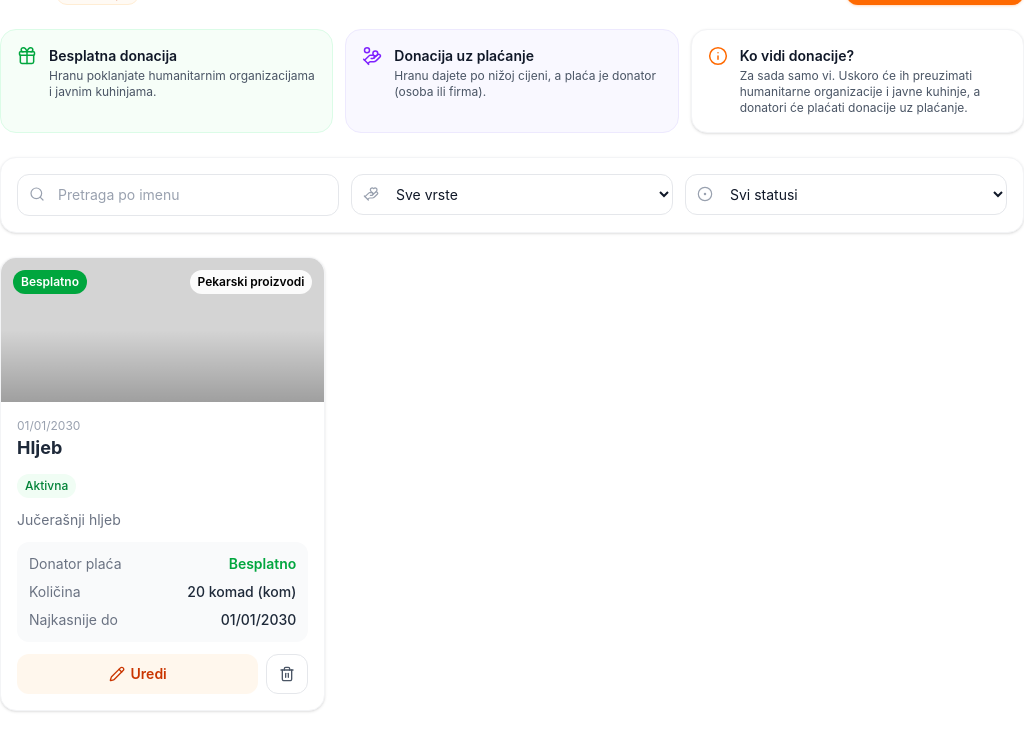
Test: DonateFoodPage › deletes a donation after confirmation
(page scrolled)
Click the button named "Obriši" at {"x": 287, "y": 674}, box [266, 654, 308, 694]
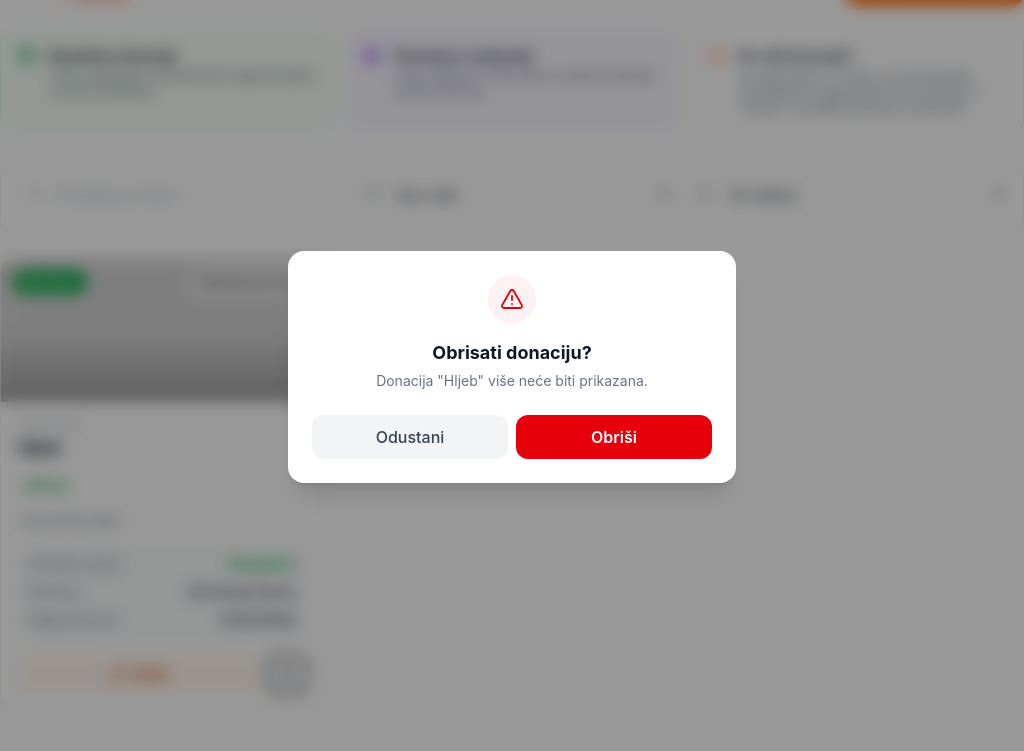
Click the button "Obriši" at {"x": 614, "y": 437}, box [516, 415, 712, 459]
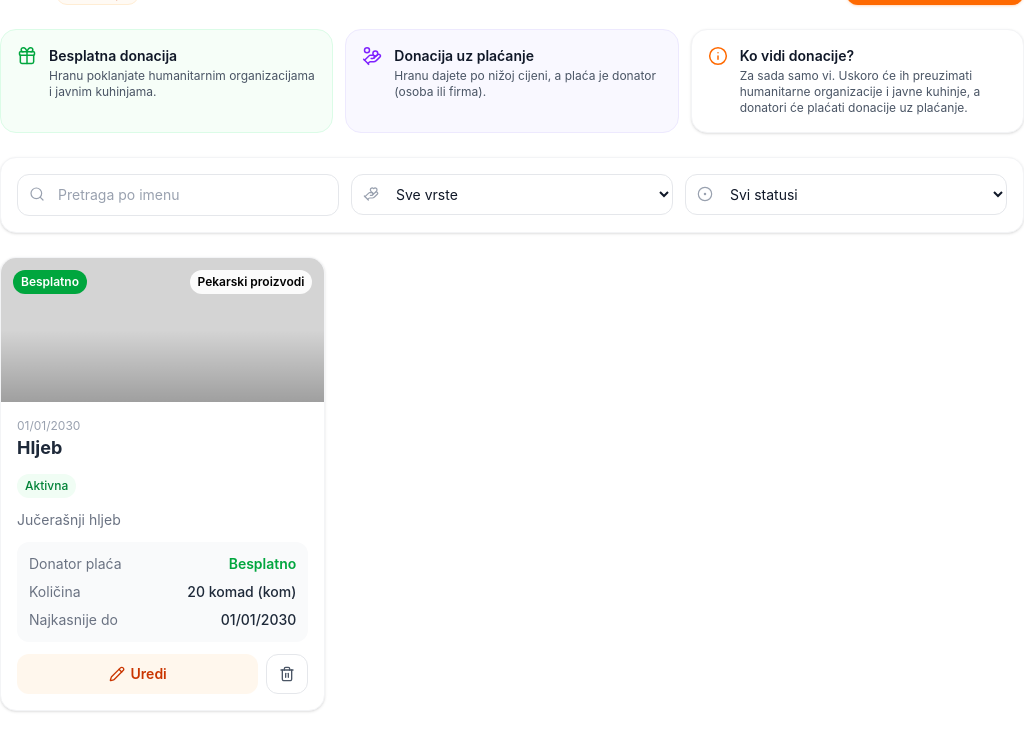
Check: the dialog is gone
